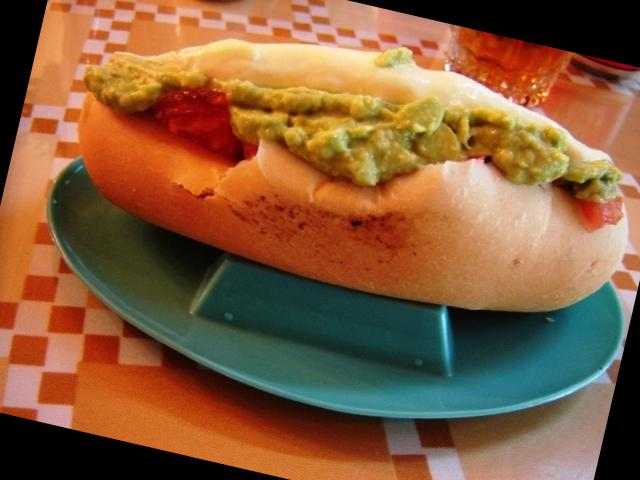Completos: (65, 0, 640, 342)
